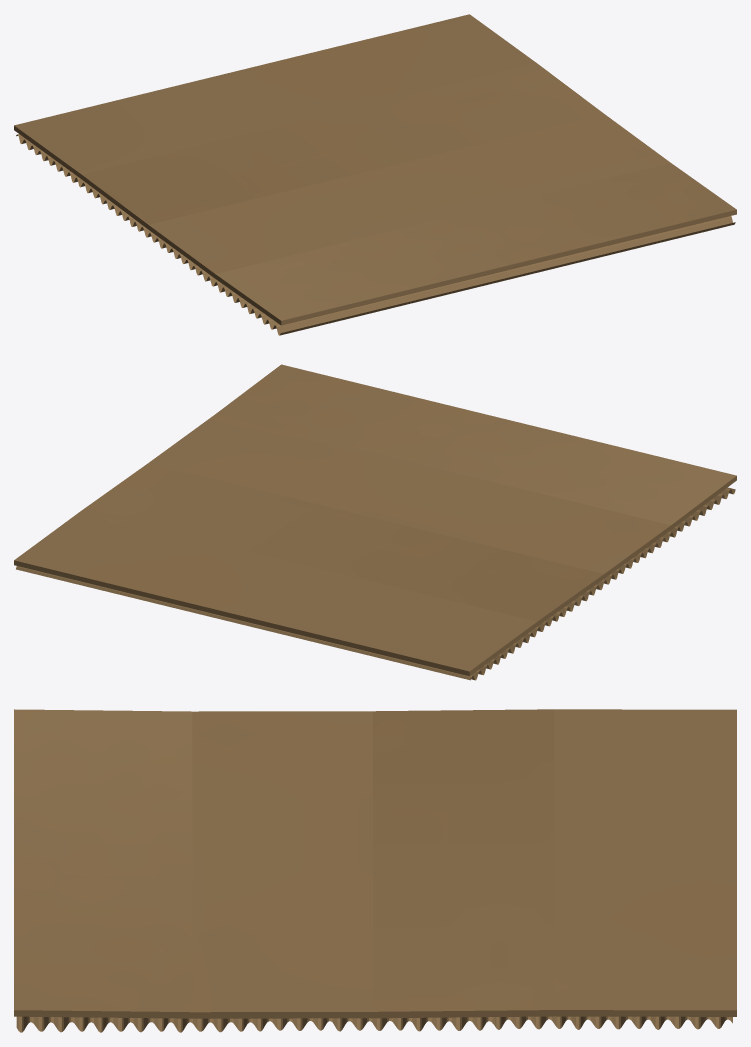
File: paper board 3.fbx
3 renders of one model, top to bottom at view 1: azimuth 30°, elevation 25°; view 2: azimuth 150°, elevation 25°; view 3: azimuth 270°, elevation 25°, orthographic. The views are drawn at different scales.
Parts seen in each view (by area): view 1: Cube, BézierCurve.005, BézierCurve.006, BézierCurve.007; view 2: Cube, BézierCurve.007, BézierCurve.005, BézierCurve.006; view 3: Cube, BézierCurve.005, BézierCurve.006, BézierCurve.007.
Part boxes in pixels (x1,y1,x2,y2): Cube: [14, 14, 736, 325]; BézierCurve.005: [192, 216, 735, 335]; BézierCurve.006: [104, 199, 196, 269]; BézierCurve.007: [16, 134, 107, 204]; Cube: [14, 364, 736, 676]; BézierCurve.007: [16, 566, 558, 680]; BézierCurve.005: [641, 487, 735, 553]; BézierCurve.006: [553, 552, 647, 616]; Cube: [14, 709, 736, 1018]; BézierCurve.005: [16, 1016, 255, 1032]; BézierCurve.006: [255, 1017, 494, 1031]; BézierCurve.007: [494, 1016, 732, 1029].
Size of the model in its own units: 773 by 27.35 by 785.
